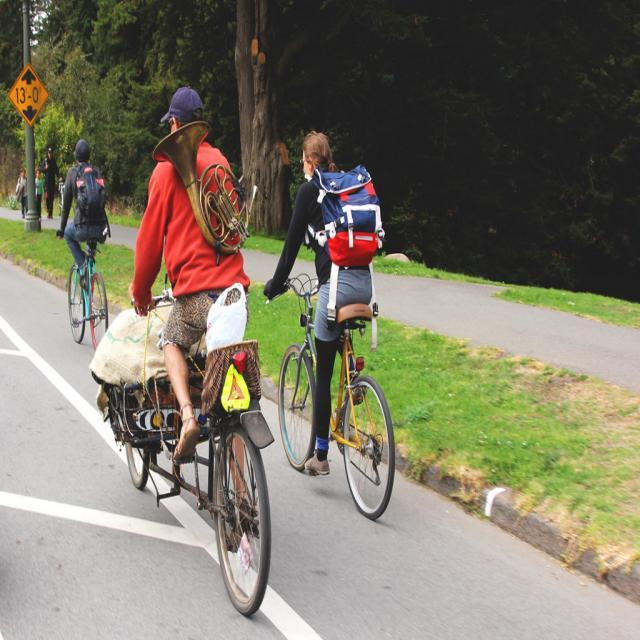car: (116, 276, 280, 624), (260, 279, 392, 520), (64, 230, 124, 343)
